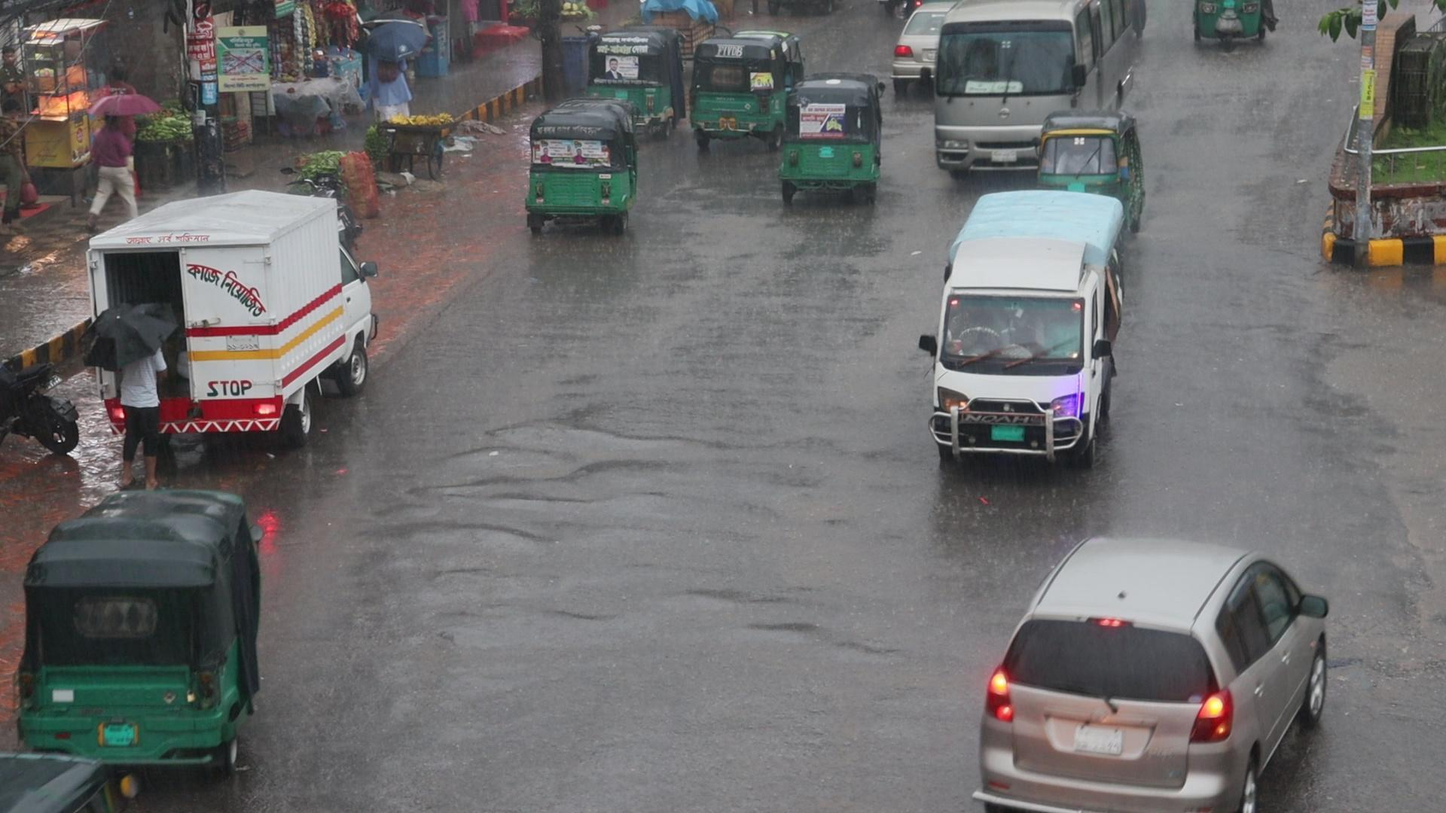Bus: (926, 6, 1156, 185)
Car: (969, 533, 1337, 813), (924, 183, 1136, 480)
